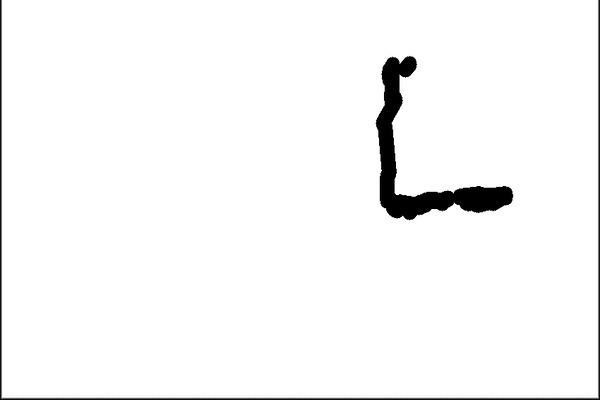L: (368, 50, 520, 223)
